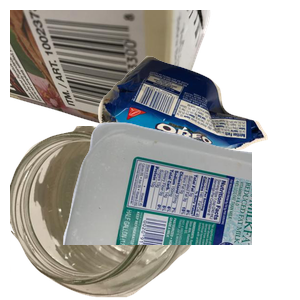cardboard: (10, 10, 213, 146)
glass: (10, 126, 216, 300)
plastic: (60, 120, 300, 300)
trash: (95, 53, 300, 195)
